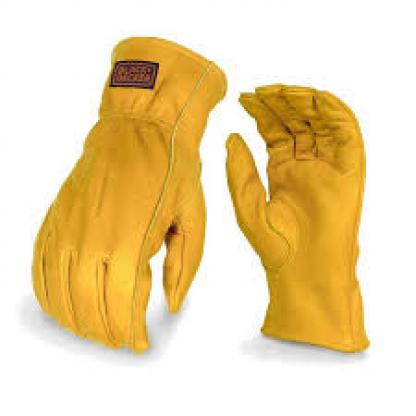with_gloves: (30, 35, 228, 355), (223, 83, 372, 353)
